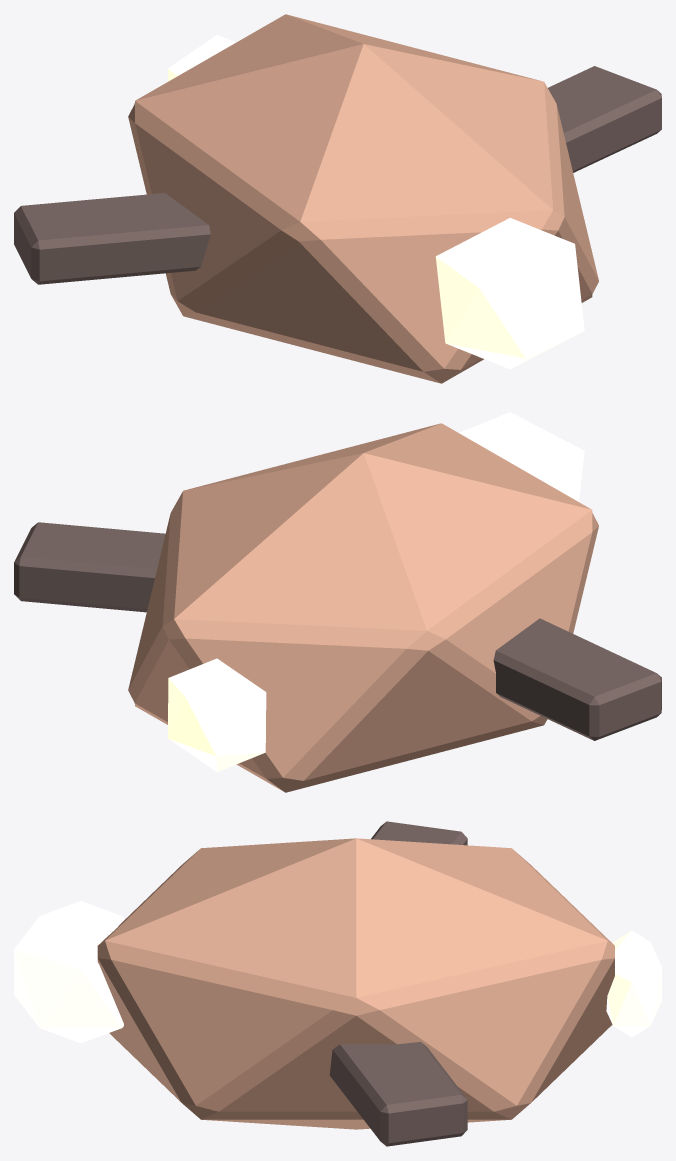
Rendered from drone.glb.
The picture shows the model from 3 angles, top to bottom: view 1: azimuth 30°, elevation 25°; view 2: azimuth 150°, elevation 25°; view 3: azimuth 270°, elevation 25°; orthographic projection. The views are drawn at different scales.
Parts seen in each view (by area): view 1: Body, Pod, Sensor, Thruster; view 2: Body, Pod, Thruster, Sensor; view 3: Body, Pod, Sensor, Thruster.
Part boxes in pixels (x1,y1,x2,y2): Body: (128, 14, 598, 383); Pod: (14, 66, 661, 284); Sensor: (435, 218, 584, 369); Thruster: (167, 35, 235, 81); Body: (128, 423, 598, 792); Pod: (14, 522, 661, 740); Thruster: (167, 658, 266, 771); Sensor: (459, 412, 584, 501); Body: (97, 838, 614, 1129); Pod: (329, 821, 467, 1146); Sensor: (14, 901, 124, 1043); Thruster: (606, 930, 661, 1037).
Bounding box in the file's own units: 1.04 × 0.49 × 0.988.
